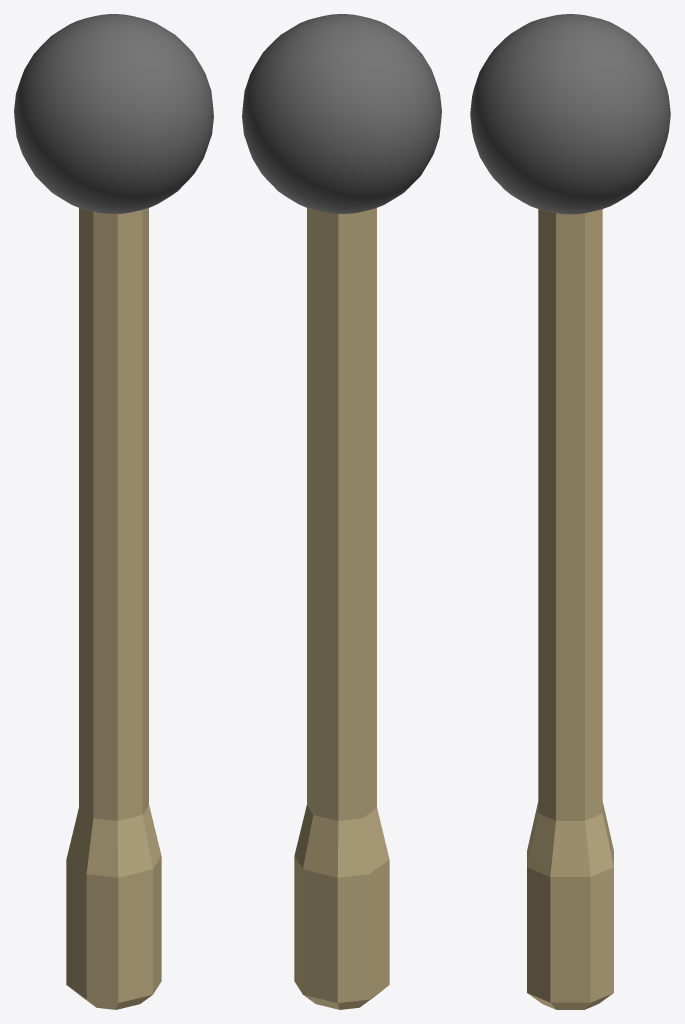
The model's file is Mallet.fbx.
3 renders of one model, left to right at view 1: azimuth 30°, elevation 25°; view 2: azimuth 150°, elevation 25°; view 3: azimuth 270°, elevation 25°, orthographic.
Parts seen in each view (by area): view 1: Rod; view 2: Rod; view 3: Rod.
Part boxes in pixels (x1,y1,x2,y2): Rod: (14, 14, 213, 1009); Rod: (242, 14, 441, 1009); Rod: (470, 14, 670, 1009).
Bounding box in the file's own units: 187 × 1002 × 187.
